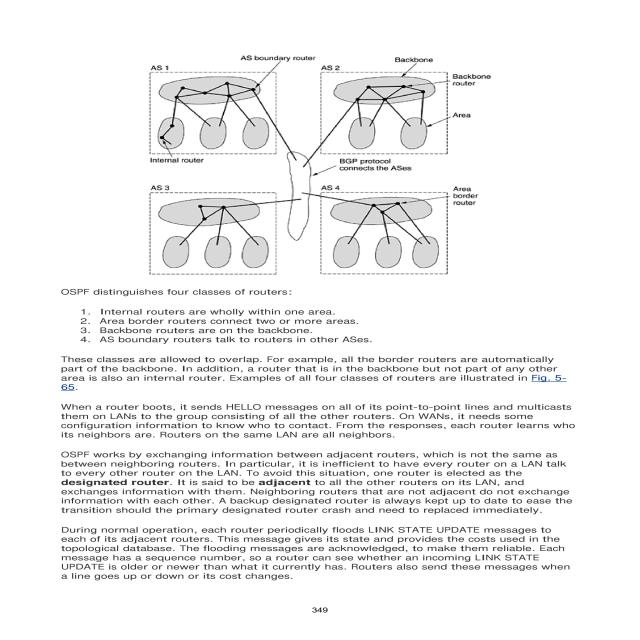diagram: (68, 48, 510, 291)
